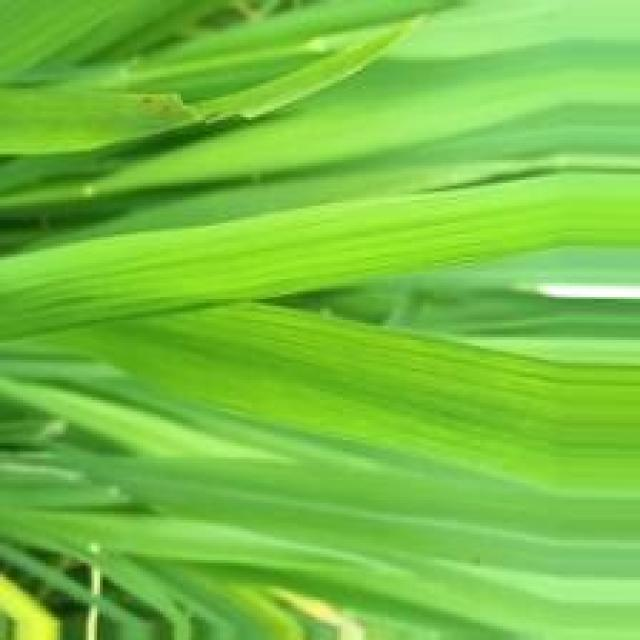HealthyLeaf: (9, 197, 561, 333), (133, 306, 560, 478), (259, 465, 493, 557)
